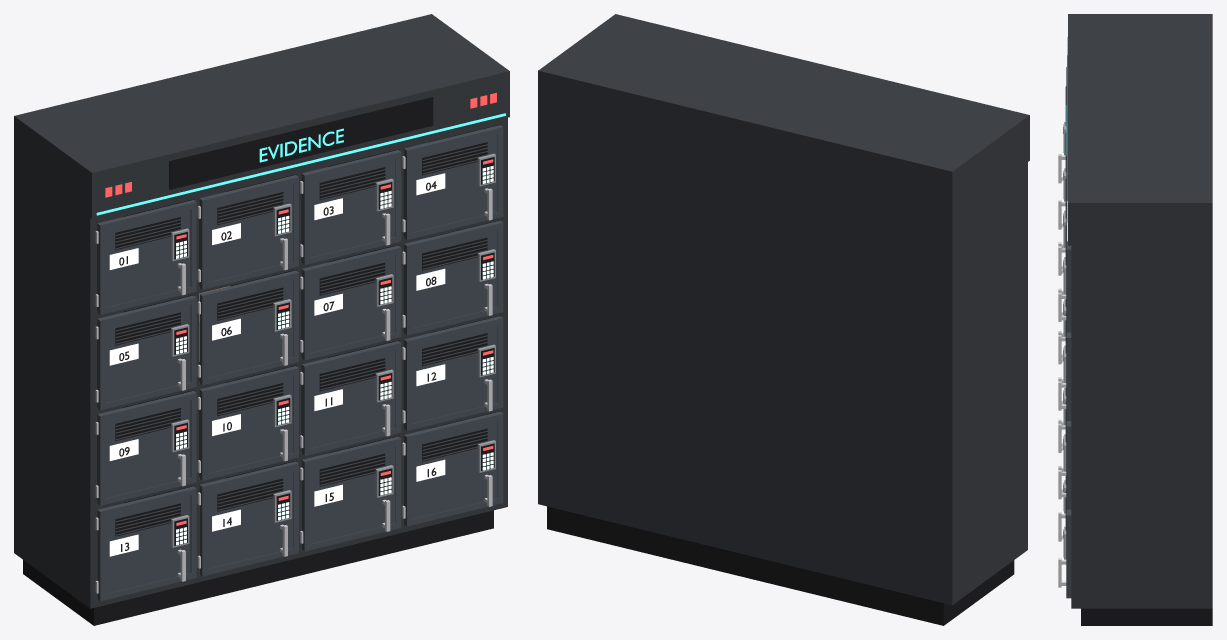
Rendered from locker.glb.
The picture shows the model from 3 angles, left to right: view 1: azimuth 30°, elevation 25°; view 2: azimuth 150°, elevation 25°; view 3: azimuth 270°, elevation 25°; orthographic projection. The views are drawn at different scales.
Visible parts, largest first — view 1: locker, locker_door; view 2: locker; view 3: locker.
Part boxes in pixels (x1,y1,x2,y2): locker: (14,14,509,625); locker_door: (199,270,298,385); locker: (538,14,1029,625); locker: (1058,14,1212,625).
Size of the model in its own units: 1.9 by 2 by 0.656.
